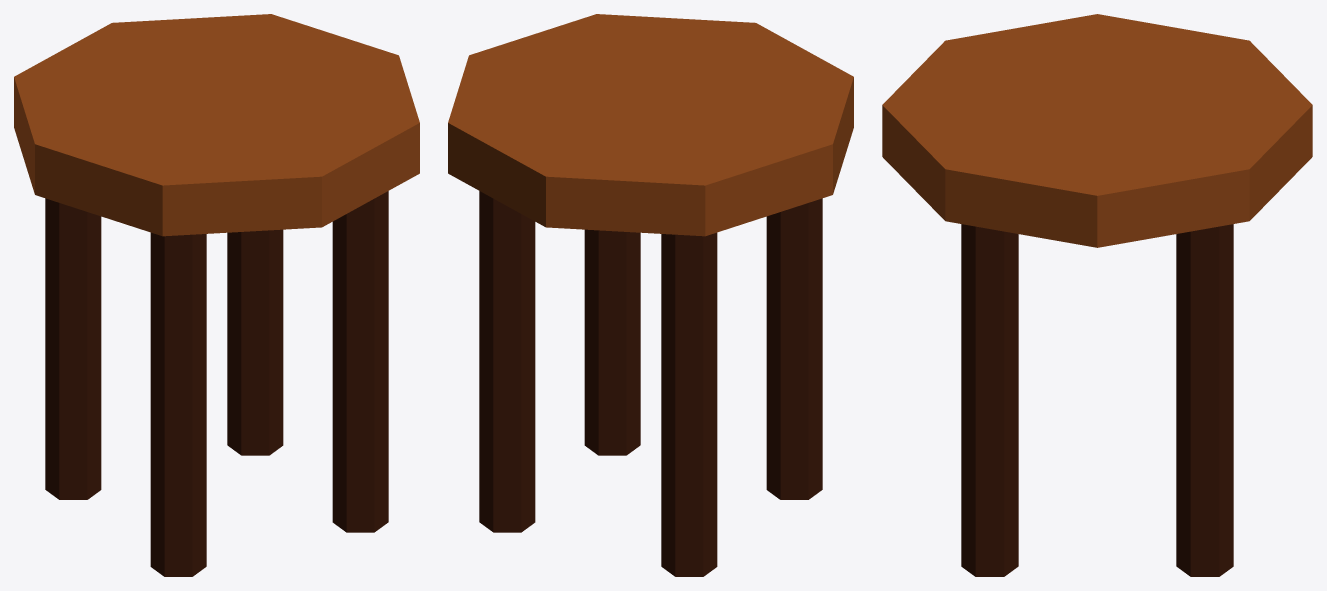
Rendered from stool.obj.
3 renders of one model, left to right at view 1: azimuth 30°, elevation 25°; view 2: azimuth 150°, elevation 25°; view 3: azimuth 270°, elevation 25°, orthographic. The views are drawn at different scales.
Visible parts, largest first — view 1: stool; view 2: stool; view 3: stool.
Boxes of the visible parts, x1,y1,x2,y2 form: stool: [14, 14, 419, 576]; stool: [448, 14, 853, 576]; stool: [882, 14, 1312, 576].
Bounding box in the file's own units: 0.6 × 0.64 × 0.6.
